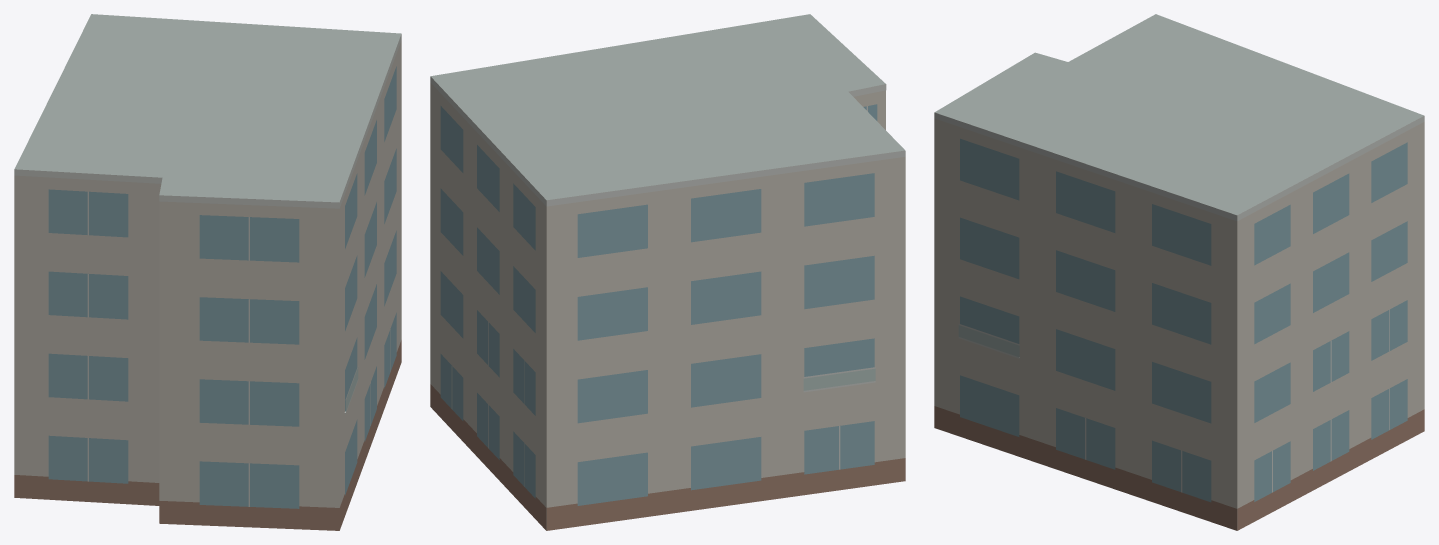
Rendered from survey-upis-32511323.glb.
3 renders of one model, left to right at view 1: azimuth 30°, elevation 25°; view 2: azimuth 150°, elevation 25°; view 3: azimuth 270°, elevation 25°, orthographic. The views are drawn at different scales.
Parts seen in each view (by area): view 1: survey-upis-32511323.tmp; view 2: survey-upis-32511323.tmp; view 3: survey-upis-32511323.tmp.
Part boxes in pixels (x1,y1,x2,y2): survey-upis-32511323.tmp: (14,14,401,530); survey-upis-32511323.tmp: (430,14,905,530); survey-upis-32511323.tmp: (934,14,1424,530).
Bounding box in the file's own units: 17.67 × 12.9 × 18.17.
